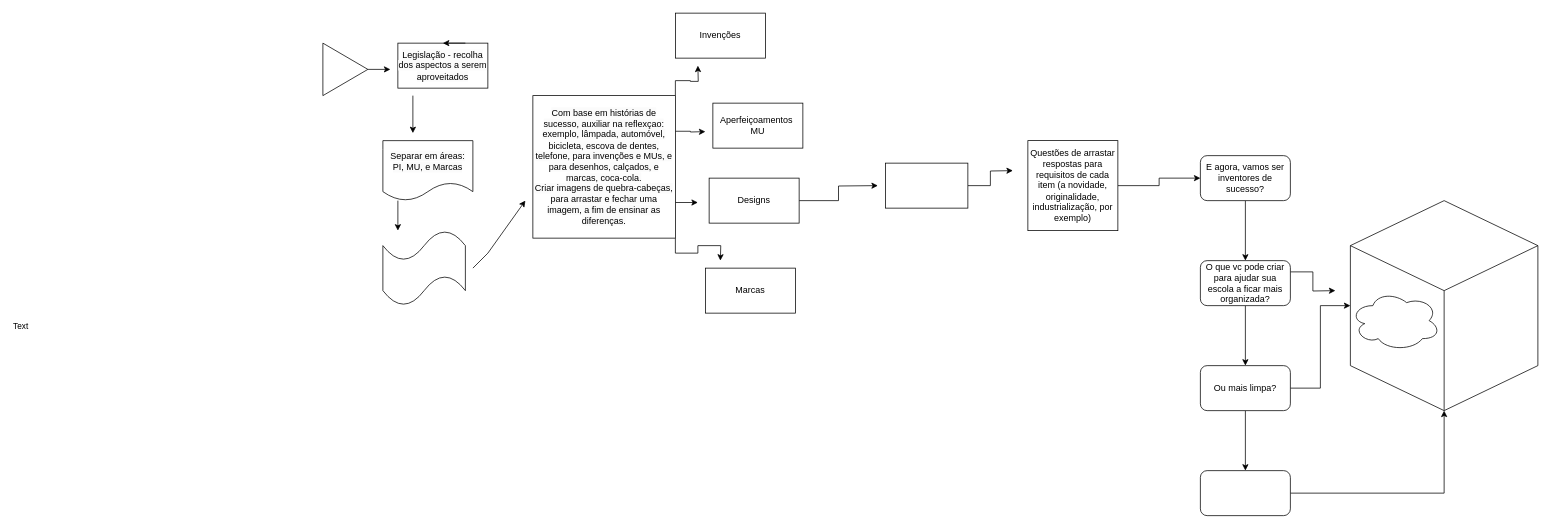
The diagram is 1551 pixels wide and 529 high, and some of its shapes have lost their labels. Here are the shapes that lost their labels. From the top down, the centre of each, then its label:
At pixel 345 69: "Início".
At pixel 926 185: "Criar questionário estilo escolhas objetivas".
At pixel 423 268: "Diagramar os itens da legislação a serem aproveitados".
At pixel 1395 320: "BOX DE NOVAS IDEIAS".
At pixel 1245 493: "Ou mais divertida?".
